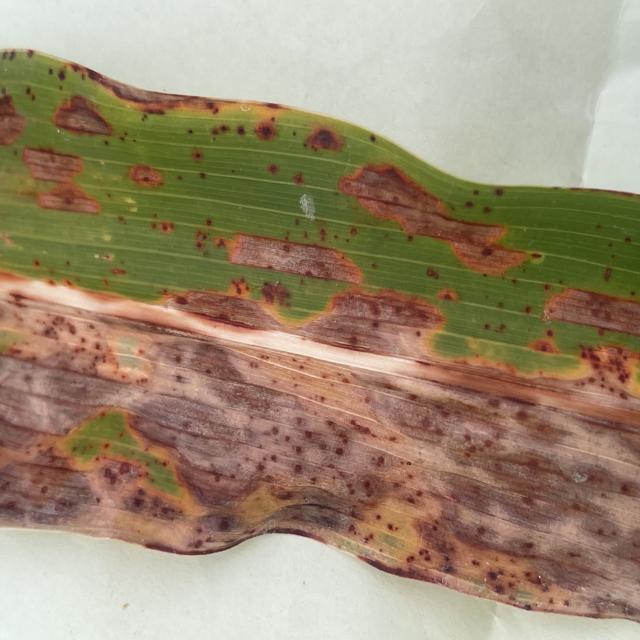millet_rust: (0, 49, 640, 622)
